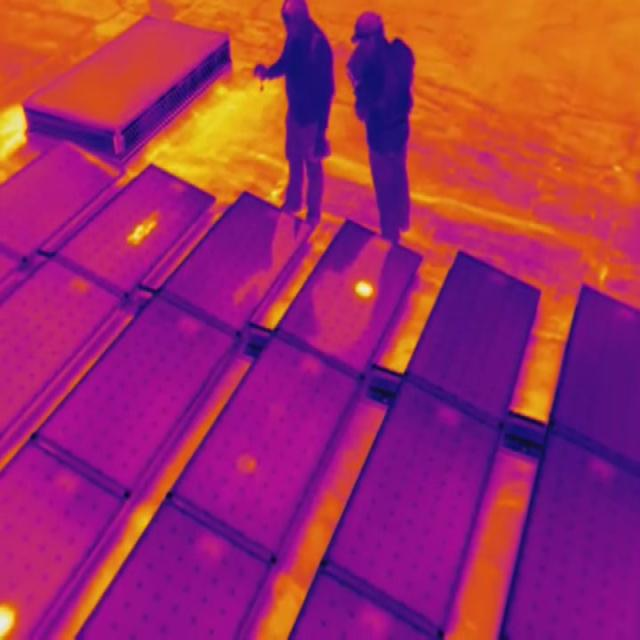Orange-Spots: (125, 208, 161, 248), (0, 593, 18, 640), (354, 278, 376, 302), (236, 451, 258, 473)
